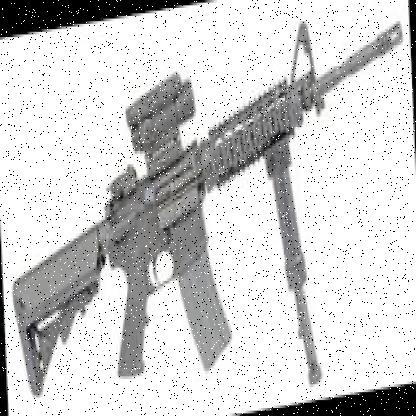rifle: (2, 2, 416, 400)
